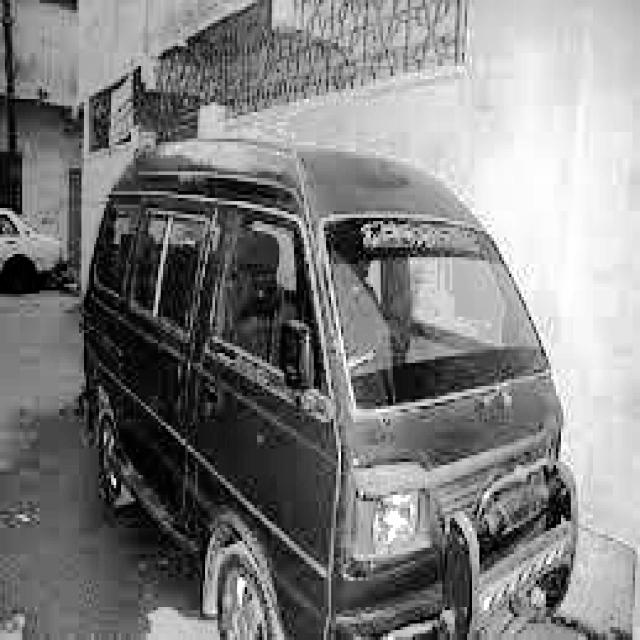LCV: (82, 135, 580, 640)
